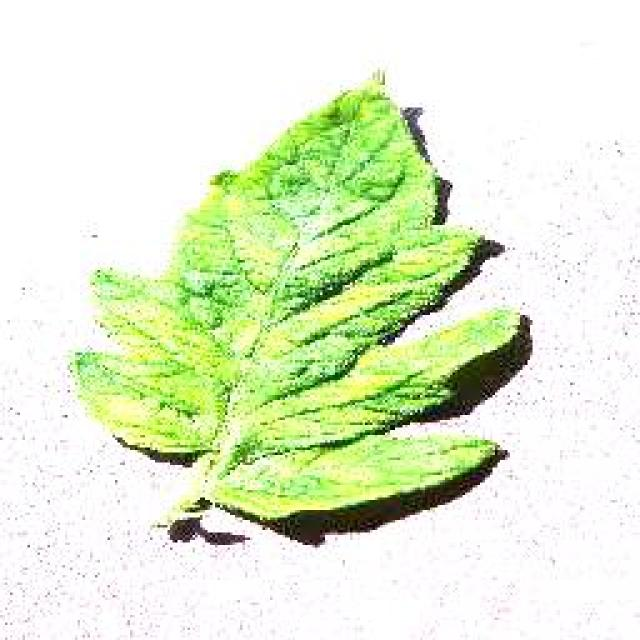Tomato___Tomato_mosaic_virus: (72, 88, 518, 518)
